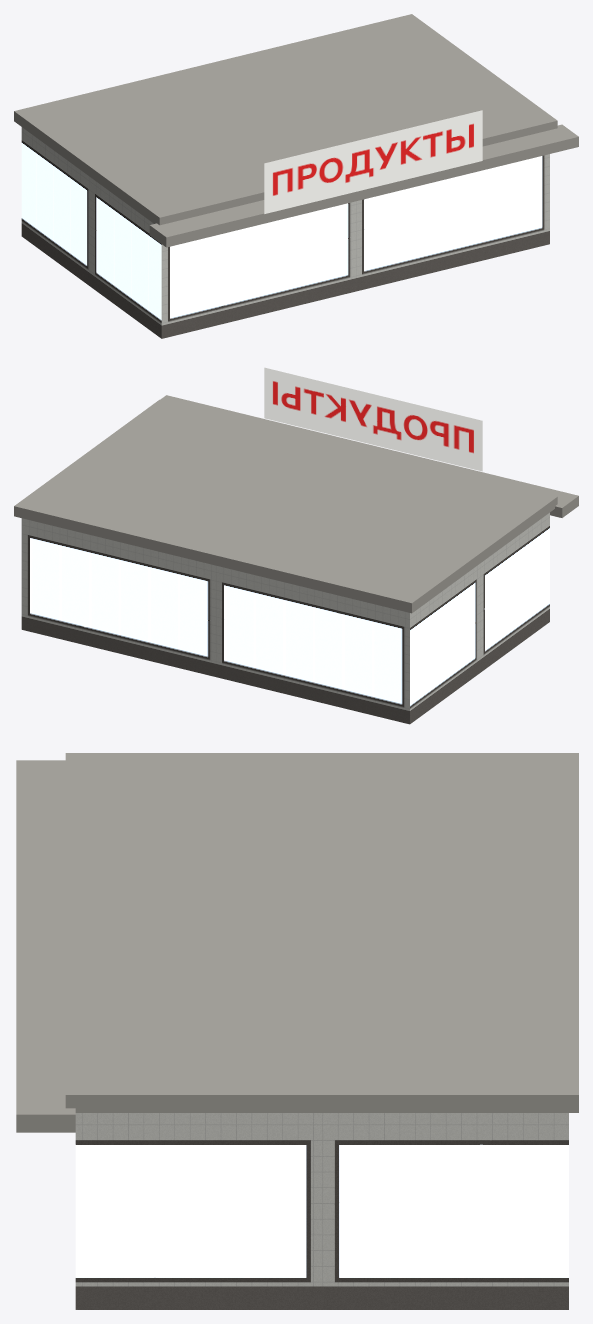
File: sov_shop.glb
3 renders of one model, top to bottom at view 1: azimuth 30°, elevation 25°; view 2: azimuth 150°, elevation 25°; view 3: azimuth 270°, elevation 25°, orthographic. The views are drawn at different scales.
Parts seen in each view (by area): view 1: box; view 2: box; view 3: box.
Part boxes in pixels (x1,y1,x2,y2): box: [14, 14, 578, 338]; box: [14, 367, 578, 724]; box: [16, 753, 578, 1309].
Bounding box in the file's own units: 17 × 6.6 × 11.45.
Materials: 3 (2 with a texture image).
